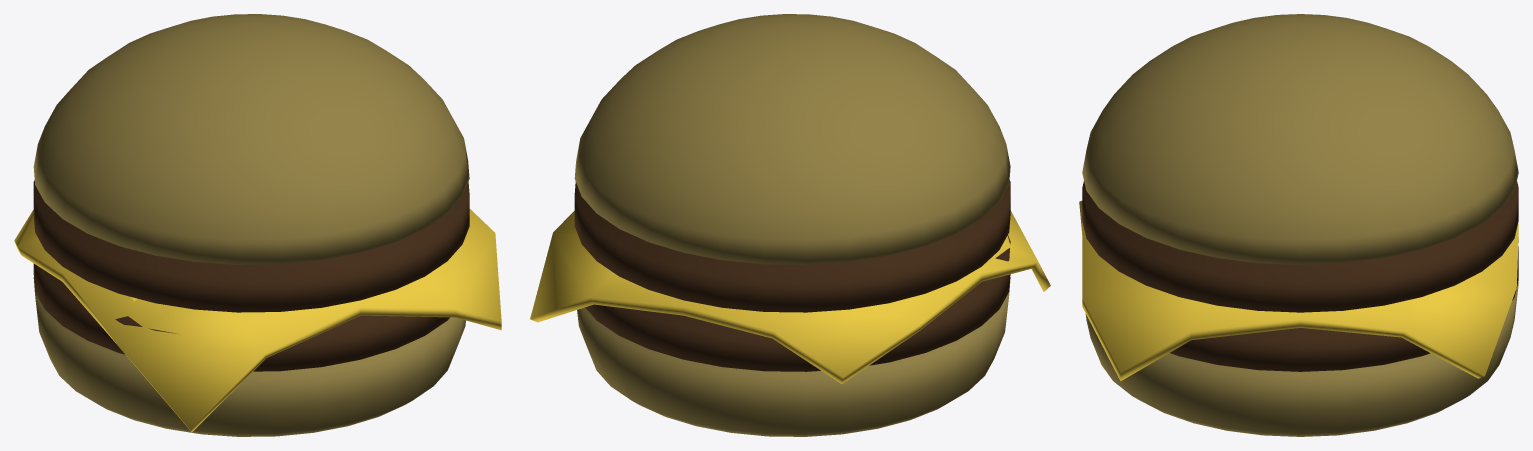
File: burger.glb
3 views of the same model, side by side, from view 1: azimuth 30°, elevation 25°; view 2: azimuth 150°, elevation 25°; view 3: azimuth 270°, elevation 25° (orthographic).
Parts seen in each view (by area): view 1: Sphere; view 2: Sphere; view 3: Sphere.
Part boxes in pixels (<box>): Sphere: <box>14,14,501,436</box>; Sphere: <box>530,14,1050,436</box>; Sphere: <box>1079,14,1518,436</box>.
Bounding box in the file's own units: 0.5769 × 0.4728 × 0.5789.
